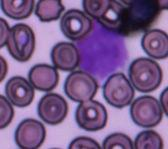L: (75, 15, 129, 79)
